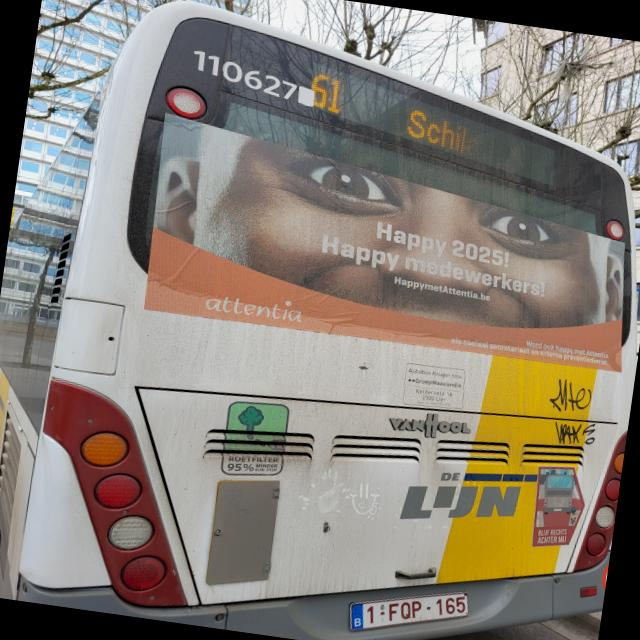bus-number: (306, 68, 348, 116)
